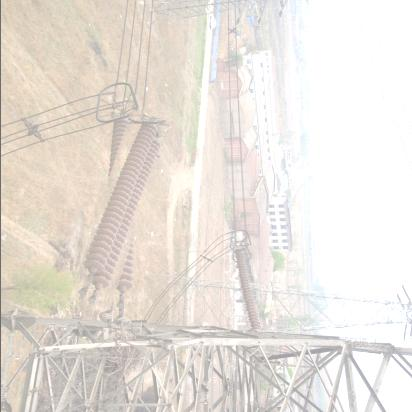insulator: (84, 111, 156, 311), (236, 247, 261, 331)
